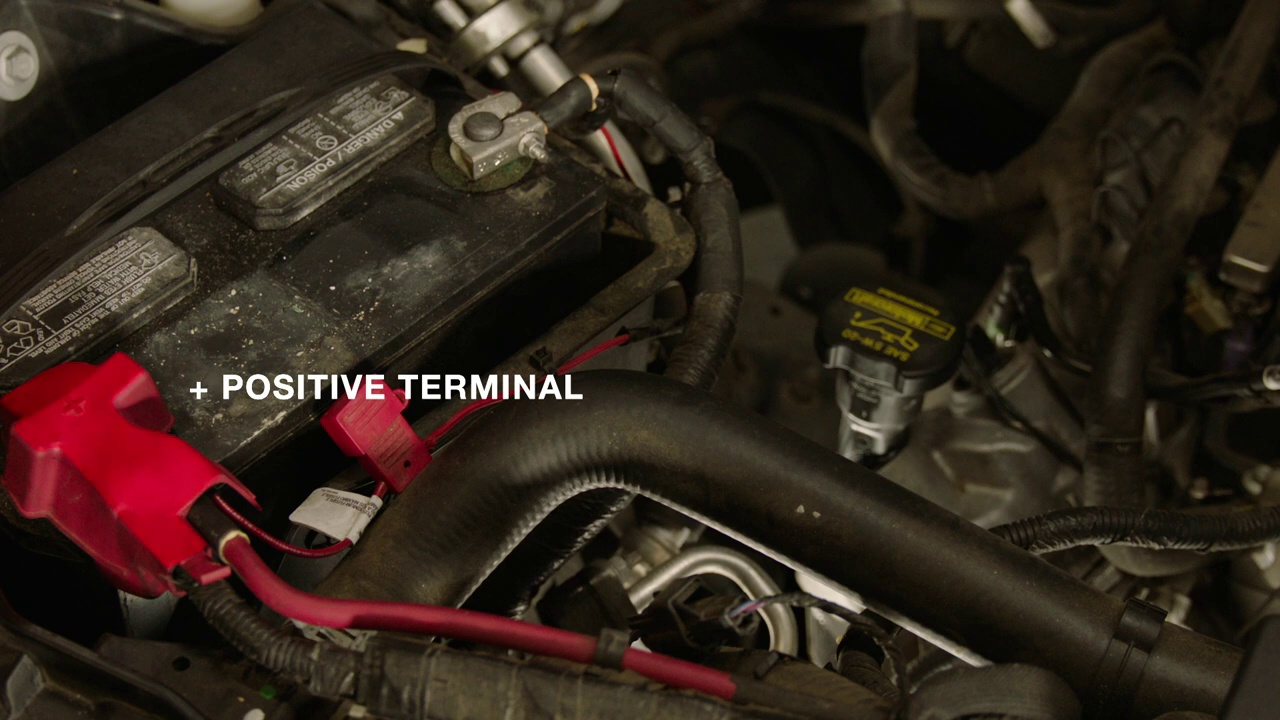battery: (2, 35, 607, 557)
neg_connected: (416, 48, 600, 216)
pos_connected: (7, 322, 224, 561)
